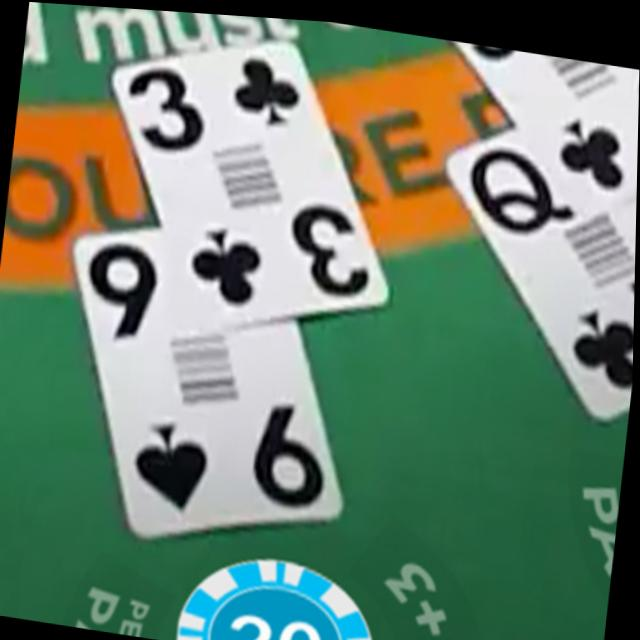Card-3: (113, 35, 389, 327)
Card-9: (73, 224, 344, 532)
Card-Q: (447, 121, 637, 410)
